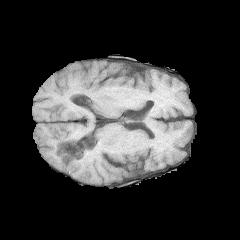glioma: (67, 143, 99, 177)
